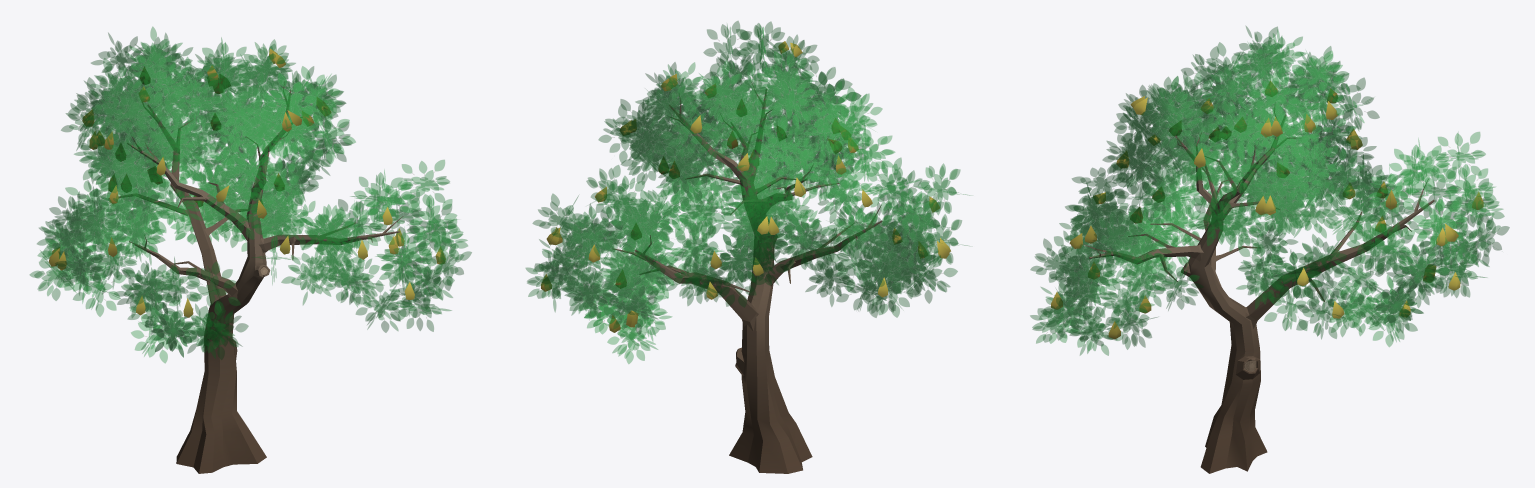
File: PT_Fruit_Tree_01_pears.glb
The picture shows the model from 3 angles, left to right: view 1: azimuth 30°, elevation 25°; view 2: azimuth 150°, elevation 25°; view 3: azimuth 270°, elevation 25°; orthographic projection.
Parts seen in each view (by area): view 1: PT_Fruit_Tree_01_pears_LOD0; view 2: PT_Fruit_Tree_01_pears_LOD0; view 3: PT_Fruit_Tree_01_pears_LOD0.
Part boxes in pixels (left/top/right/bottom): PT_Fruit_Tree_01_pears_LOD0: left=30, top=27, right=471, bottom=473; PT_Fruit_Tree_01_pears_LOD0: left=525, top=21, right=969, bottom=473; PT_Fruit_Tree_01_pears_LOD0: left=1030, top=26, right=1509, bottom=473.
Size of what is drawn, in the model's own units: 6.5 by 6.58 by 7.25.
Materials: 2 (2 with a texture image).
